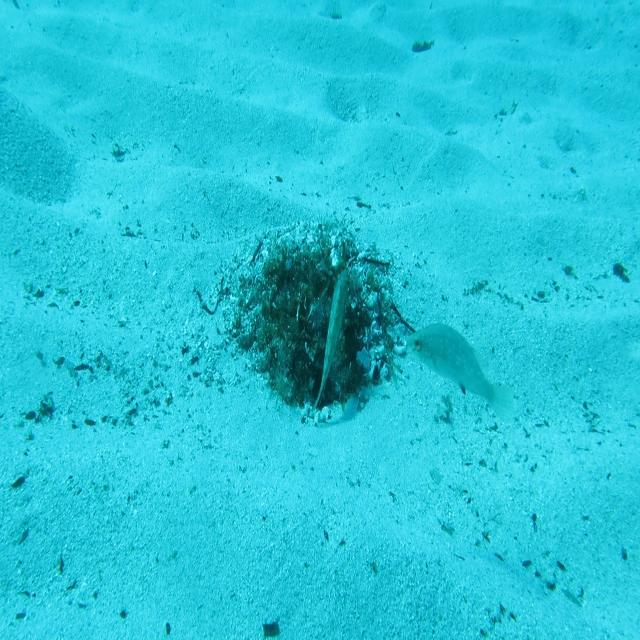FAN: (304, 263, 352, 414)
core_nest: (286, 262, 334, 296)
female: (406, 320, 516, 428)
nest: (216, 206, 414, 437)
vegetation: (410, 34, 434, 57), (610, 258, 629, 286), (263, 621, 282, 640)
